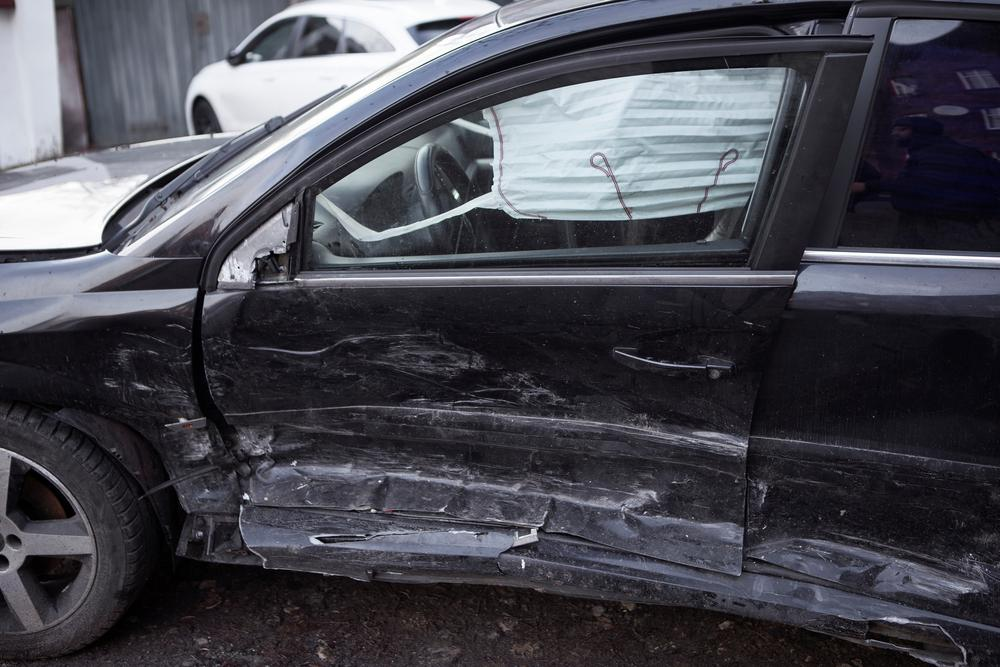crack: (865, 618, 968, 667)
dent: (235, 329, 749, 576), (753, 479, 997, 614)
scratch: (99, 321, 194, 414)
